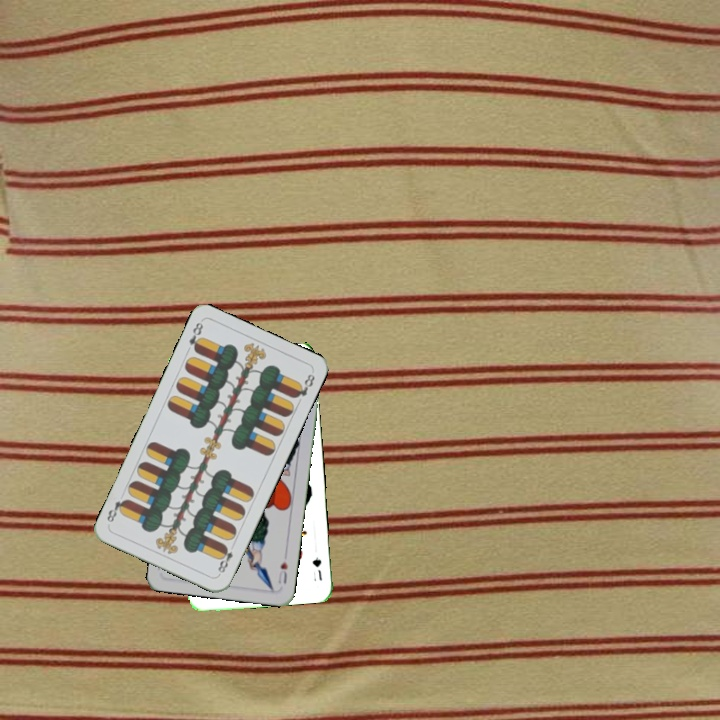E8: (214, 541, 236, 578), (185, 318, 206, 355)
GU: (308, 553, 325, 584)
HU: (274, 557, 290, 586)
